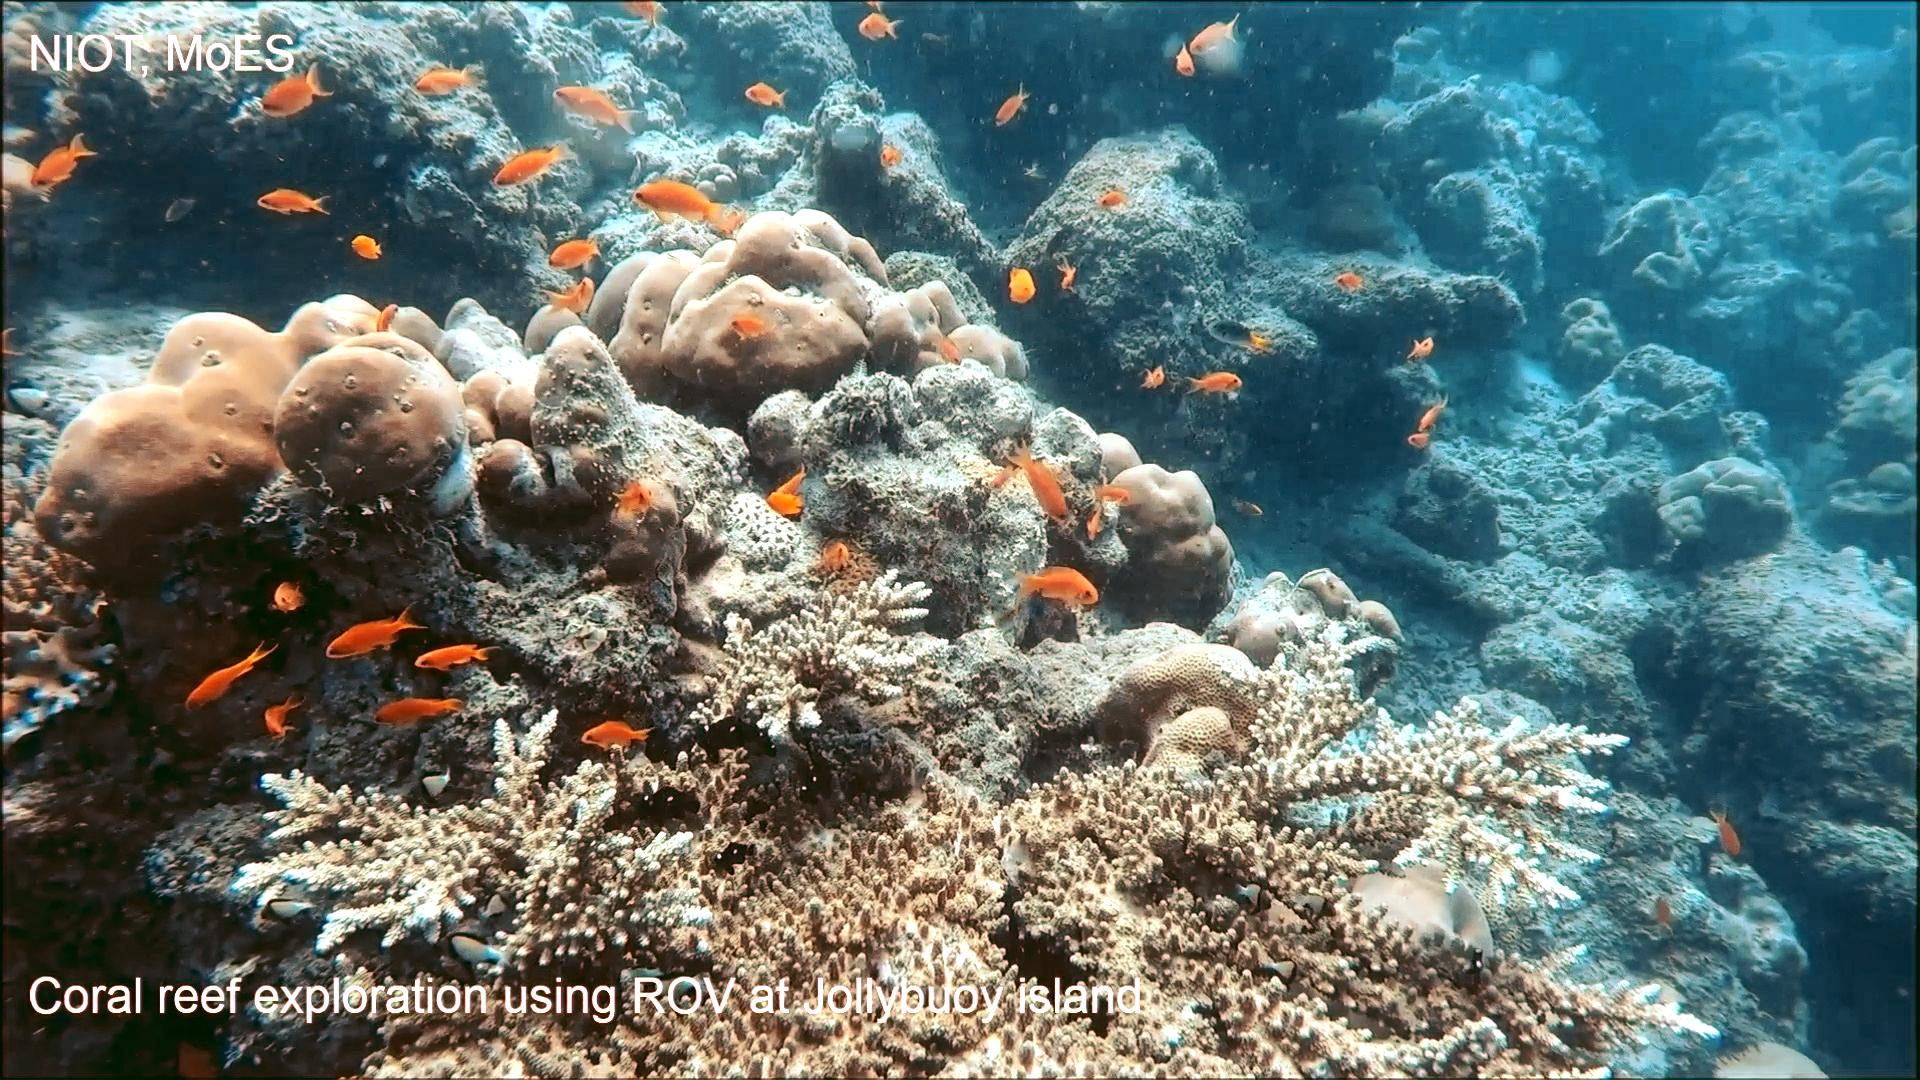Porites-Porites pukoensis: (24, 281, 473, 600), (556, 194, 1035, 410)
